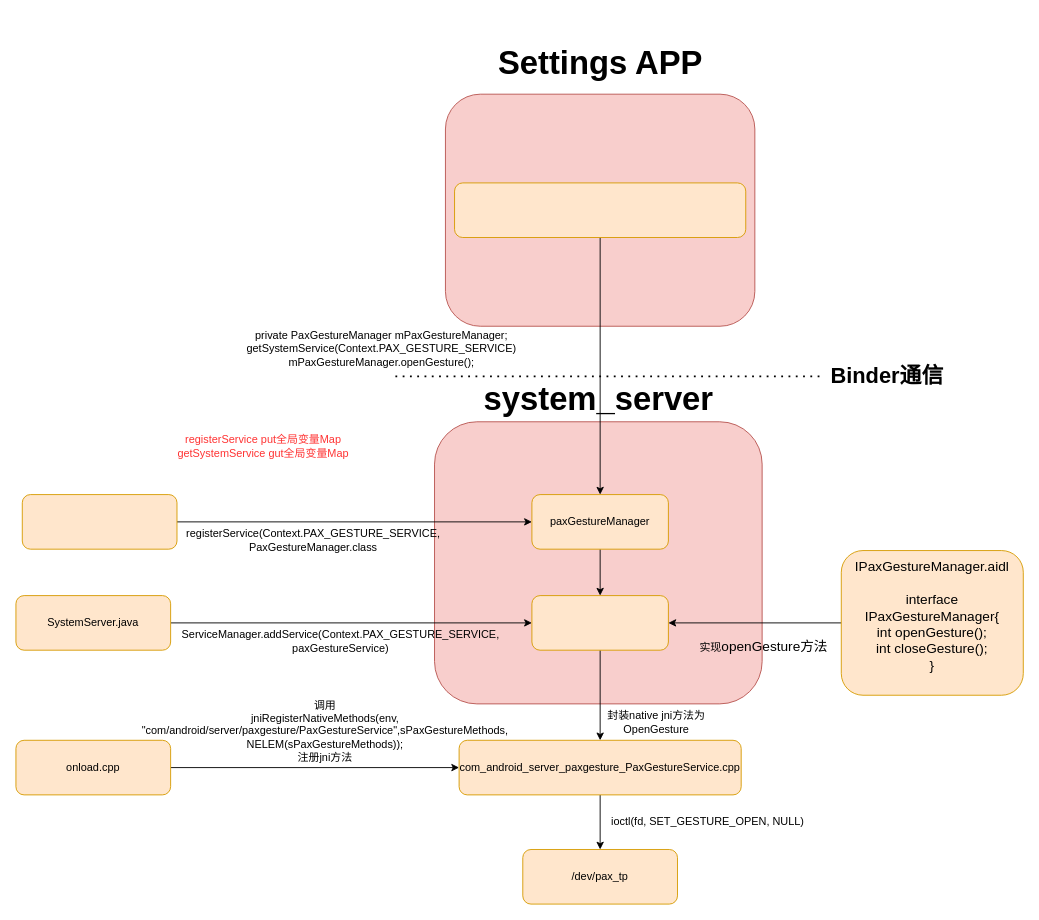
Some shapes in this 1039 by 920 pixel diagram are drawn without their labels. Here are the shapes that lost their labels. From the top down, the box of each, then its label:
(454, 182, 746, 238): PaxDoubleTapAwakeGesturePreferenceController.java
(21, 494, 177, 549): SystemServiceRegistry.java
(531, 595, 668, 650): paxGestureService
